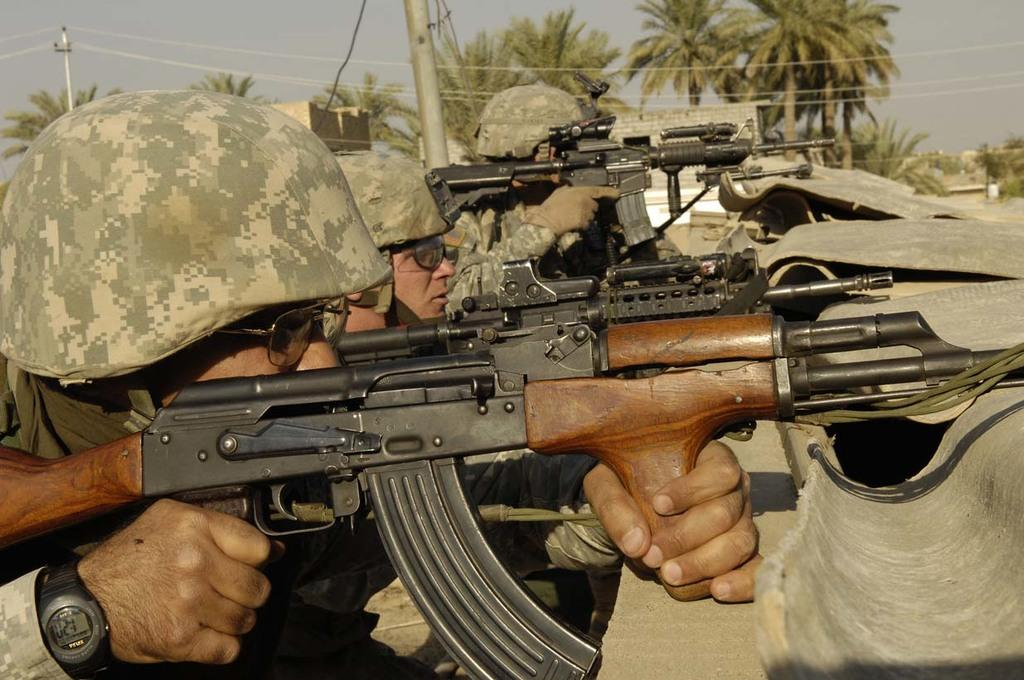Rifle: (0, 253, 1023, 679), (430, 120, 838, 245)
